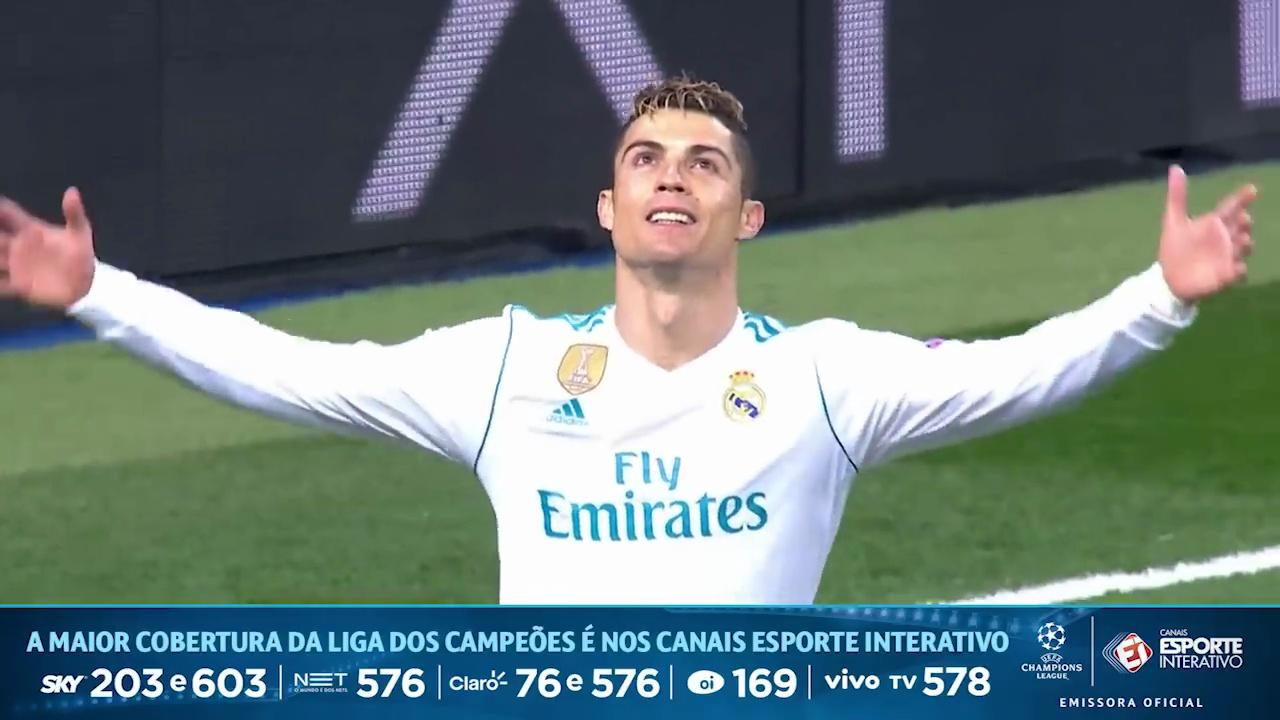player: (0, 78, 1256, 603)
